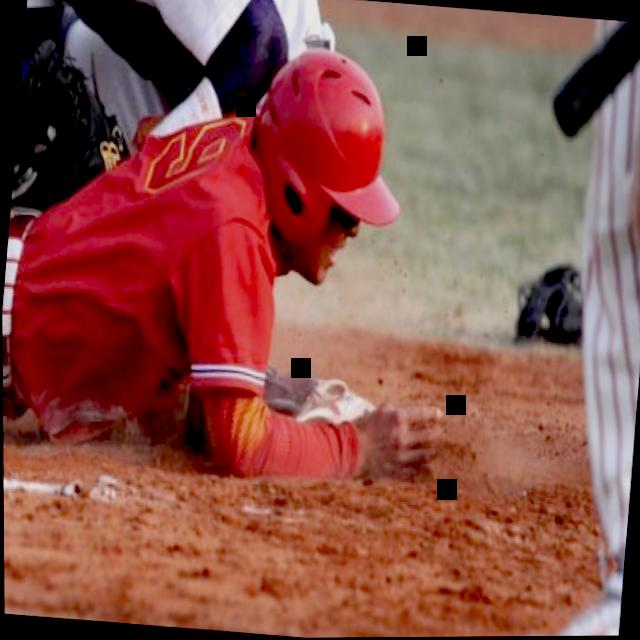Fall-Detected: (0, 6, 461, 488)
